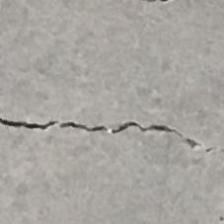Crack: (0, 90, 224, 175)
